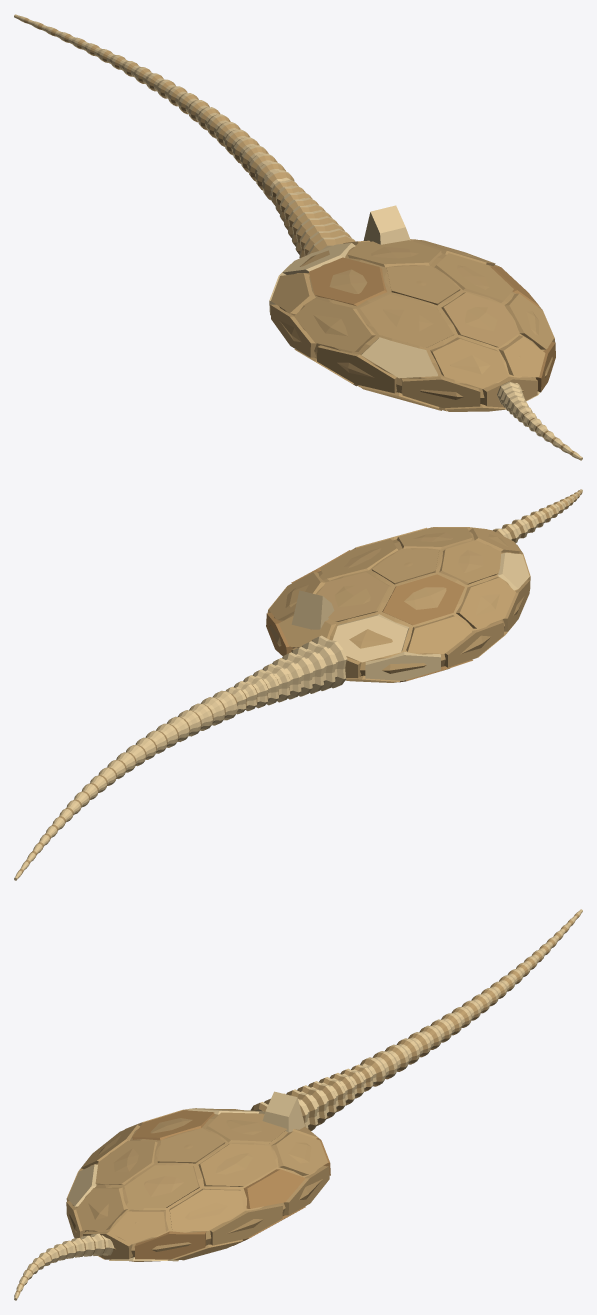
Rendered from dendrocystites.glb.
The picture shows the model from 3 angles, top to bottom: view 1: azimuth 30°, elevation 25°; view 2: azimuth 150°, elevation 25°; view 3: azimuth 330°, elevation 25°; orthographic projection. The views are drawn at different scales.
Parts seen in each view (by area): view 1: dendrocystites-original-organism; view 2: dendrocystites-original-organism; view 3: dendrocystites-original-organism.
Part boxes in pixels (left/top/right/bottom): dendrocystites-original-organism: left=14, top=14, right=582, bottom=460; dendrocystites-original-organism: left=14, top=489, right=582, bottom=880; dendrocystites-original-organism: left=14, top=909, right=582, bottom=1300.
Bounding box in the file's own units: 0.0168 × 0.00745 × 0.0802.
